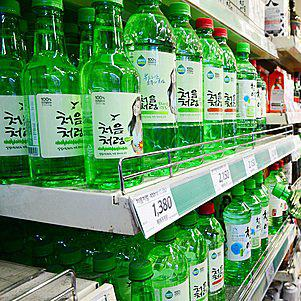soju: (3, 2, 270, 194), (15, 158, 287, 301)
